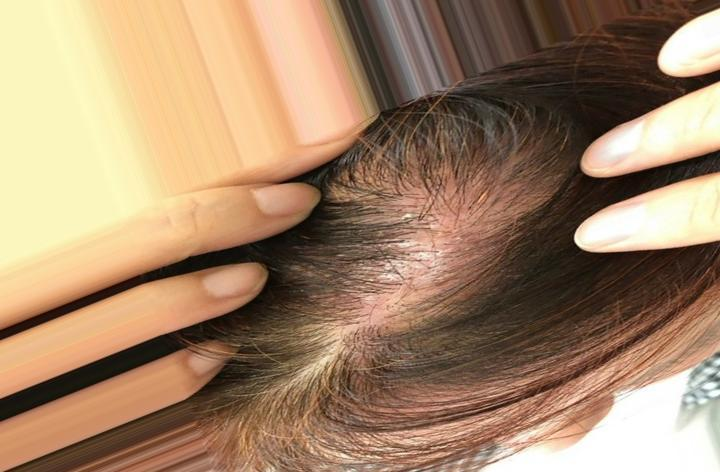Contact Dermatitis: (338, 144, 541, 356)
